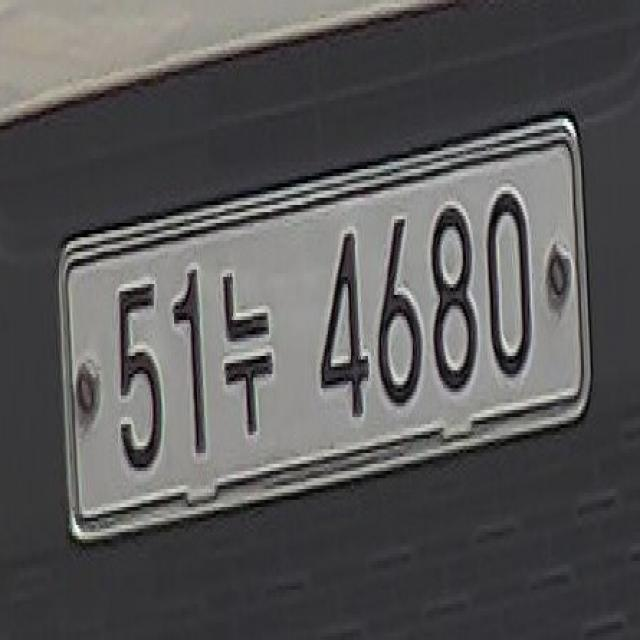0: (485, 168, 538, 390)
1: (172, 264, 212, 464)
4: (320, 230, 370, 423)
5: (115, 266, 165, 480)
6: (375, 212, 425, 415)
8: (427, 198, 481, 398)
license_plate: (50, 86, 602, 578)
nu: (220, 242, 284, 452)
